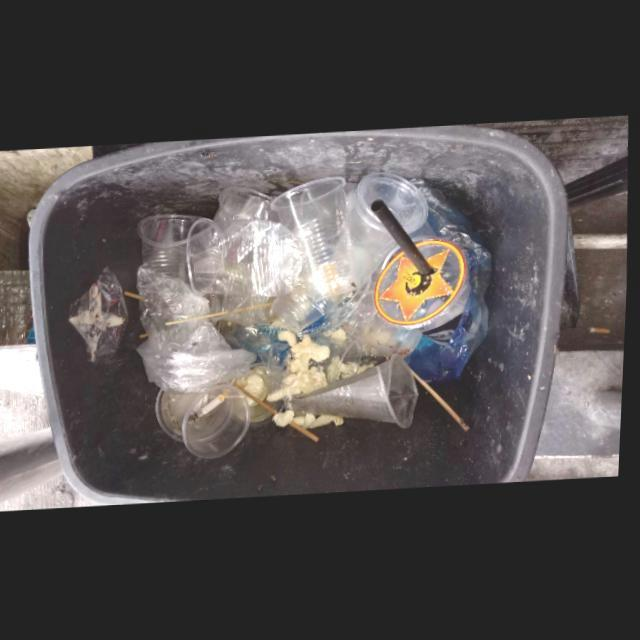plastic_container: (273, 177, 361, 303), (376, 240, 473, 347), (188, 218, 307, 297), (296, 354, 421, 428), (139, 214, 208, 285)
